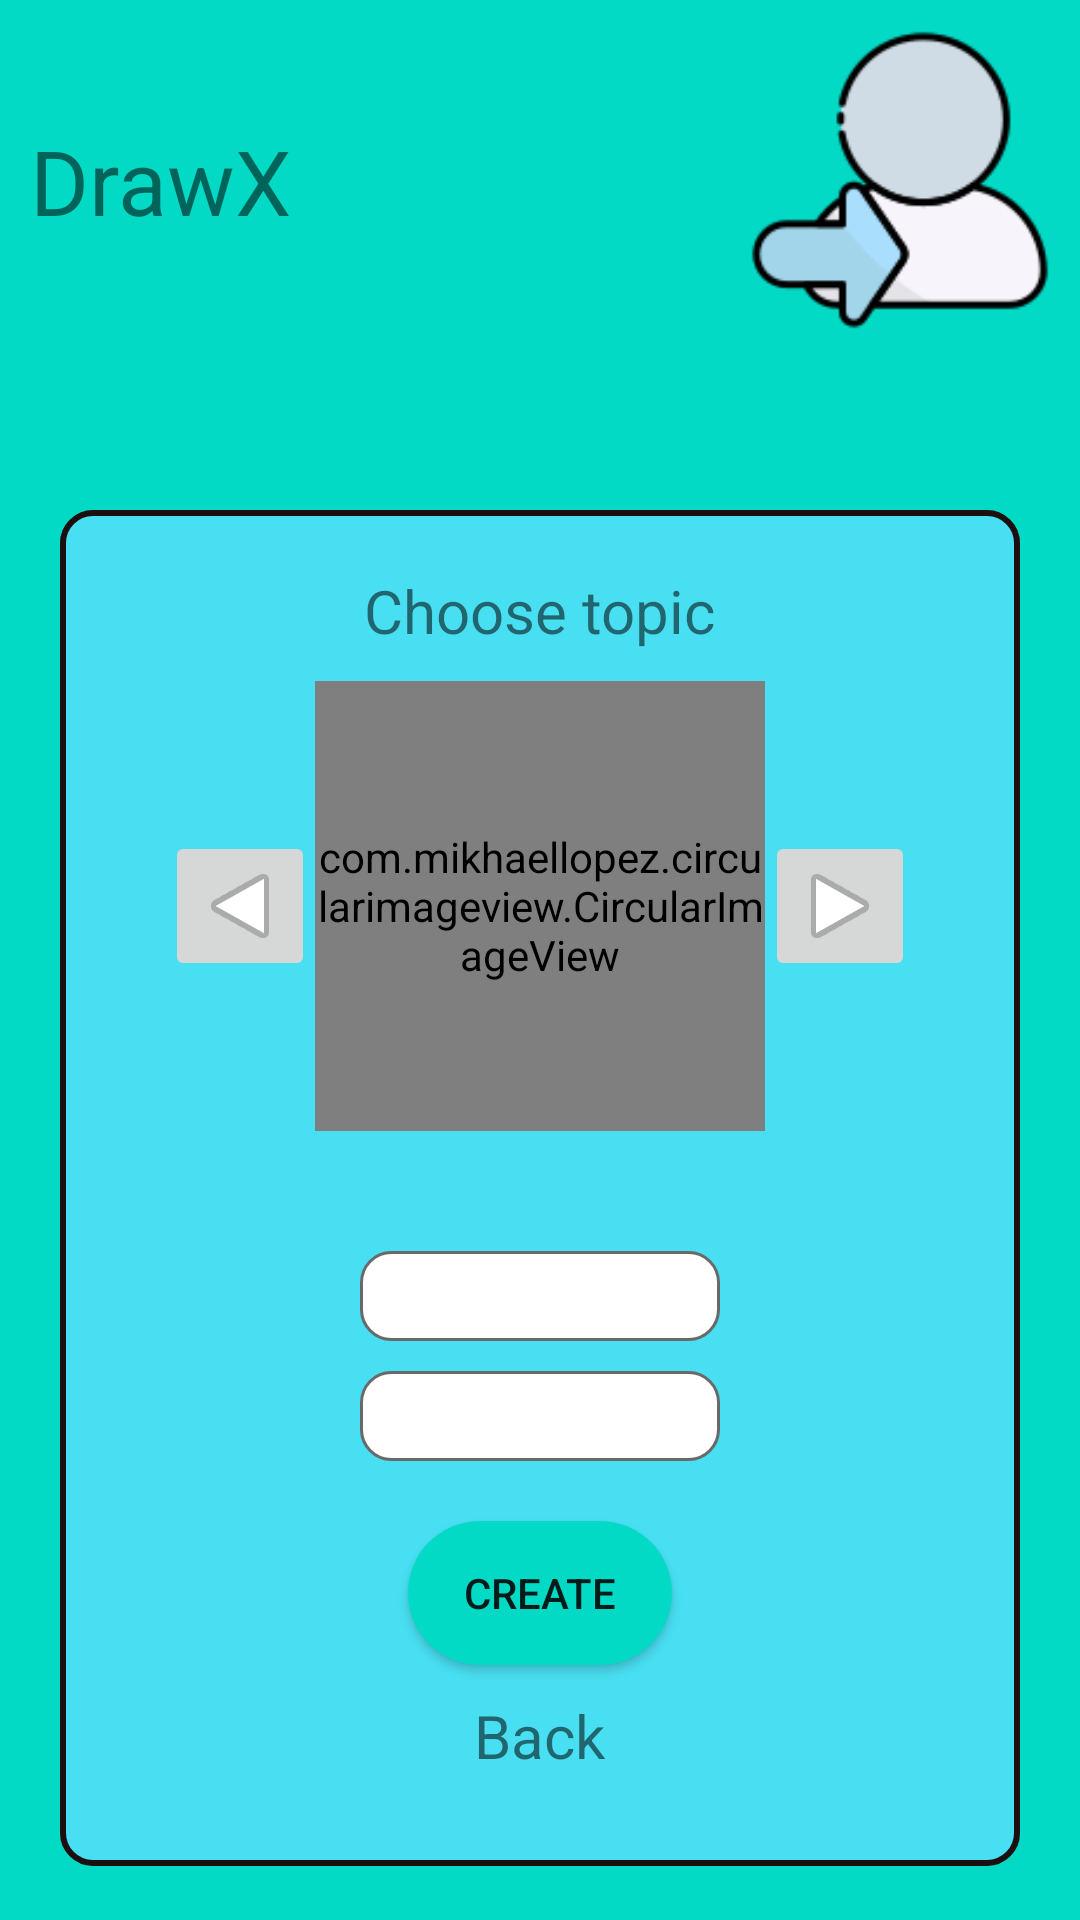

Icon bounding boxes for this 1080w x 1920h phone screenshot, format (x1, y1, x2, y2):
login: (752, 32, 1048, 328)
